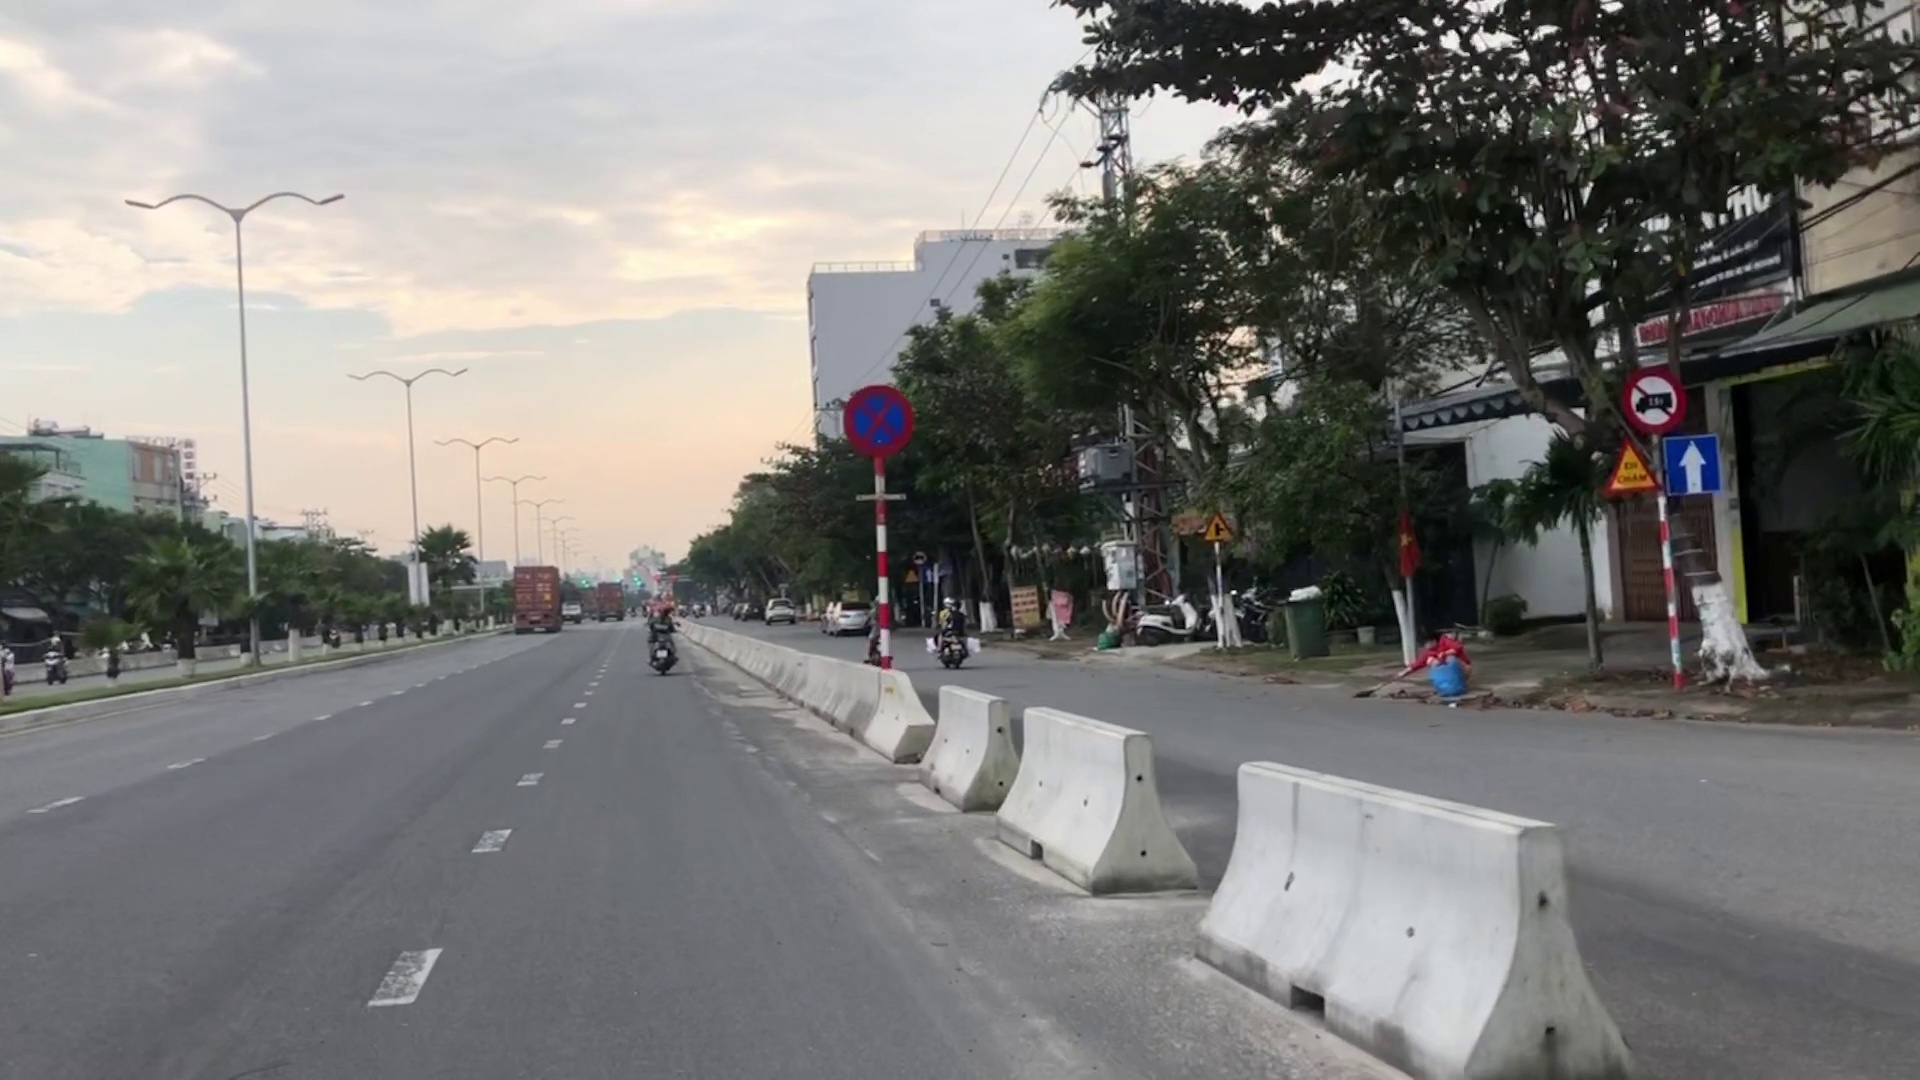Bien khac: (840, 384, 918, 463), (1662, 433, 1722, 498), (1627, 372, 1683, 433), (1600, 438, 1658, 495)
Giao nhau voi duong khong uu tien: (1203, 510, 1233, 543)
